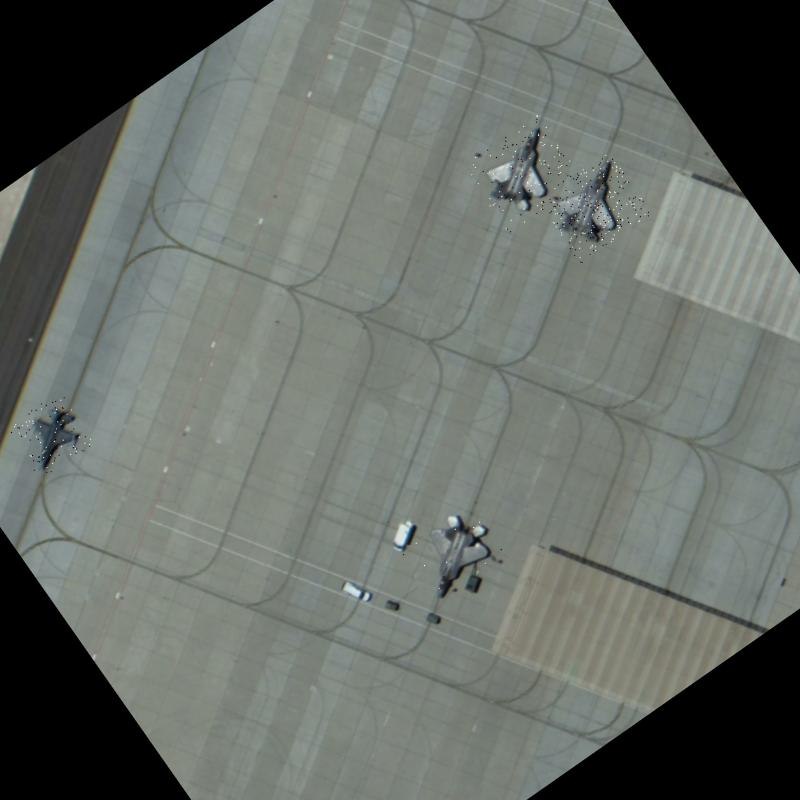A15: (462, 114, 585, 234), (537, 151, 653, 264), (398, 496, 508, 603)
A5: (5, 390, 96, 481)
